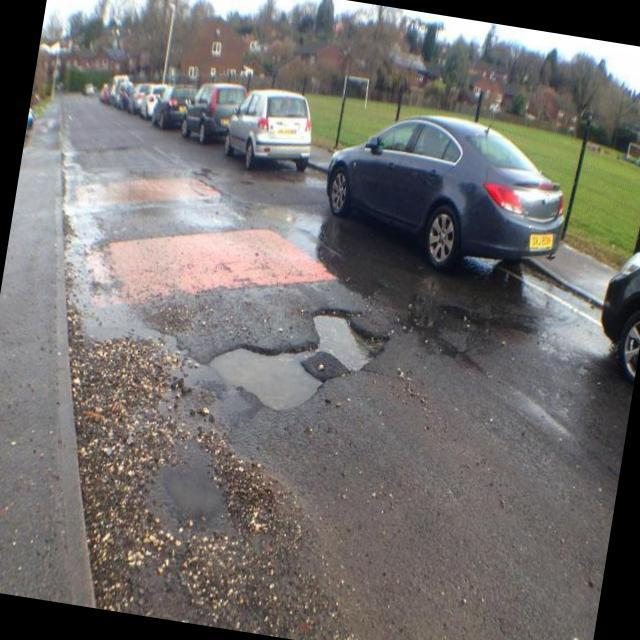Pothole: (207, 308, 390, 413)
